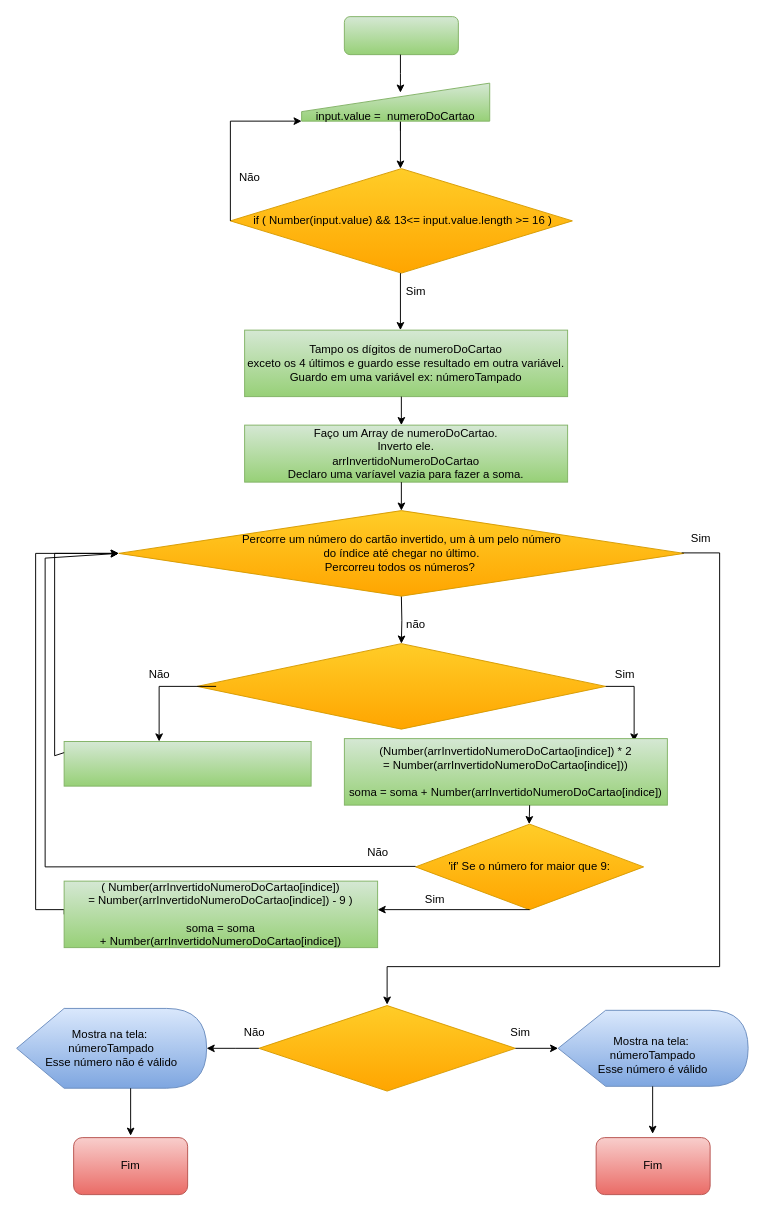
The diagram is 765 pixels wide and 1211 high, and some of its shapes have lost their labels. Here are the shapes that lost their labels. From the top down, the centre of each, then its label:
point 400,35: Inicio
point 401,686: "if" Se o número do indice não for divisivel por 2:
point 187,763: soma = soma + Number(arrInvertidoNumeroDoCartao[indice])
point 386,1048: 'if' Se a soma for divisível por 10:
